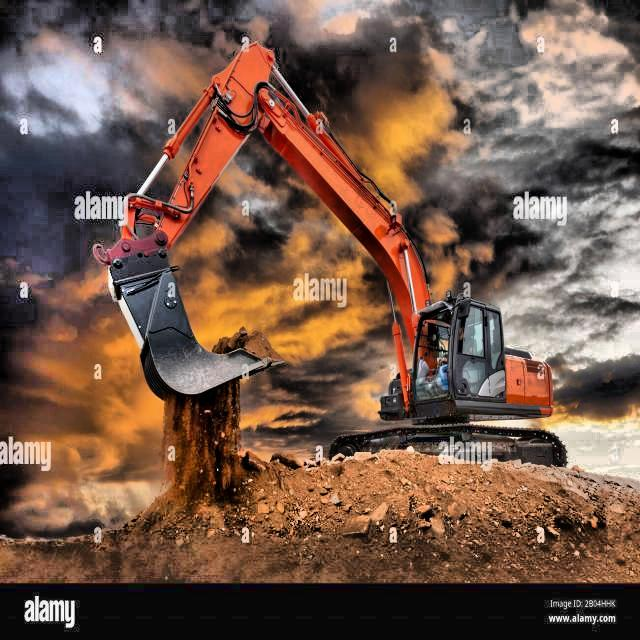excavator: (93, 39, 572, 469)
